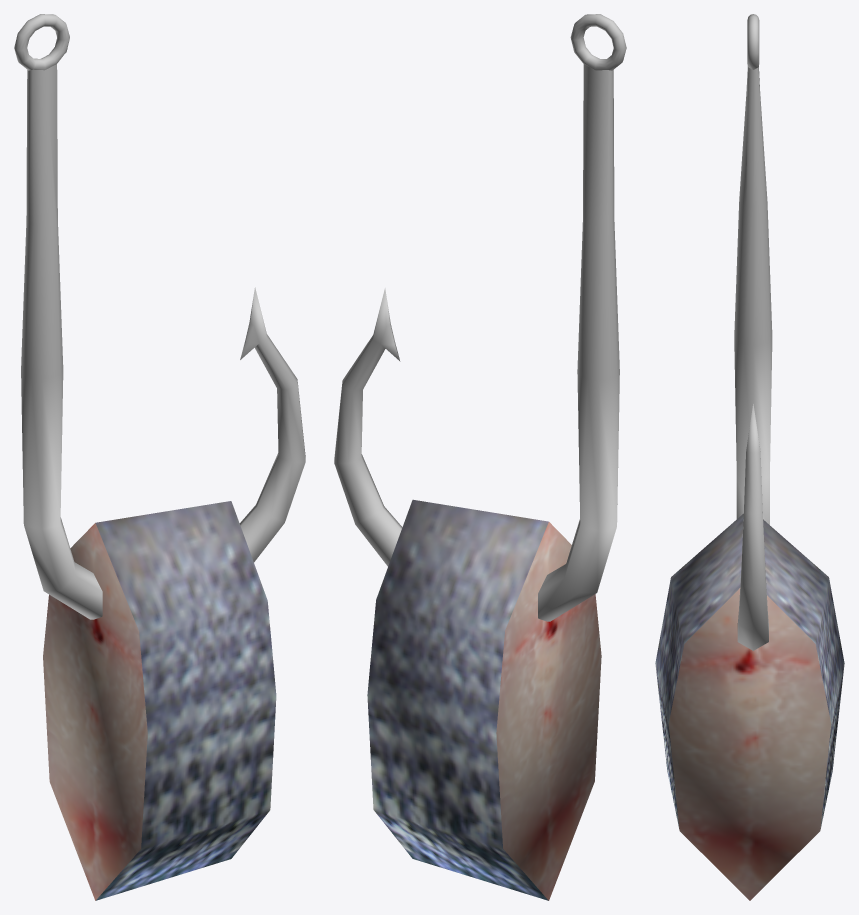
The model's file is Bait_FlatheadGreyMullet.fbx.
The picture shows the model from 3 angles, left to right: view 1: azimuth 30°, elevation 25°; view 2: azimuth 150°, elevation 25°; view 3: azimuth 270°, elevation 25°; orthographic projection. The views are drawn at different scales.
Parts seen in each view (by area): view 1: Bait_Mullet; view 2: Bait_Mullet; view 3: Bait_Mullet.
Part boxes in pixels (bbox=[...]): Bait_Mullet: bbox=[14, 14, 305, 900]; Bait_Mullet: bbox=[334, 14, 626, 900]; Bait_Mullet: bbox=[655, 14, 844, 900].
Size of the model in its own units: 0.2116 by 0.6247 by 0.1323.
